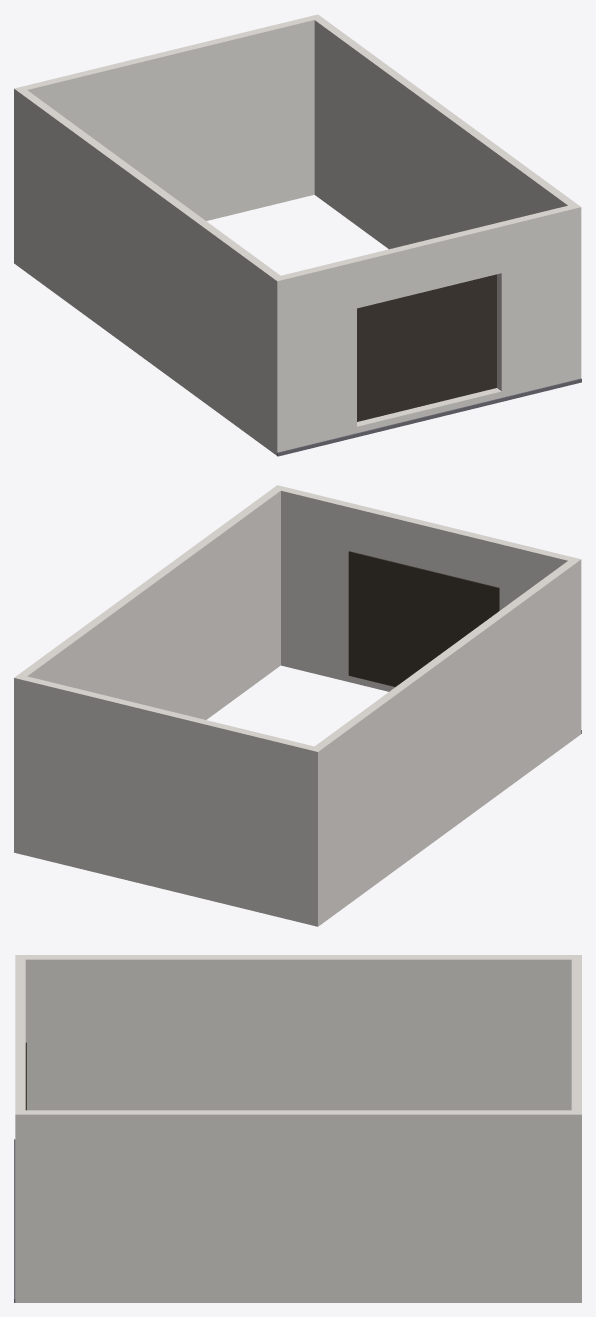
Rendered from SM_Floor_NarrowUpperBalcony_White_546_01.gltf.
The picture shows the model from 3 angles, top to bottom: view 1: azimuth 30°, elevation 25°; view 2: azimuth 150°, elevation 25°; view 3: azimuth 270°, elevation 25°; orthographic projection. The views are drawn at different scales.
Parts seen in each view (by area): view 1: SM_Floor_NarrowUpperBalcony_White_546_01; view 2: SM_Floor_NarrowUpperBalcony_White_546_01; view 3: SM_Floor_NarrowUpperBalcony_White_546_01.
Boxes of the visible parts, x1,y1,x2,y2 form: SM_Floor_NarrowUpperBalcony_White_546_01: (14, 14, 581, 456); SM_Floor_NarrowUpperBalcony_White_546_01: (14, 485, 581, 926); SM_Floor_NarrowUpperBalcony_White_546_01: (14, 955, 581, 1302).
Size of the model in its own units: 5.46 by 3 by 8.21.
Materials: 1 (1 with a texture image).
